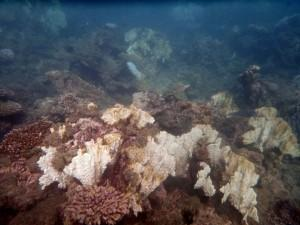bleached_corals: (37, 103, 260, 224), (125, 28, 171, 82)
